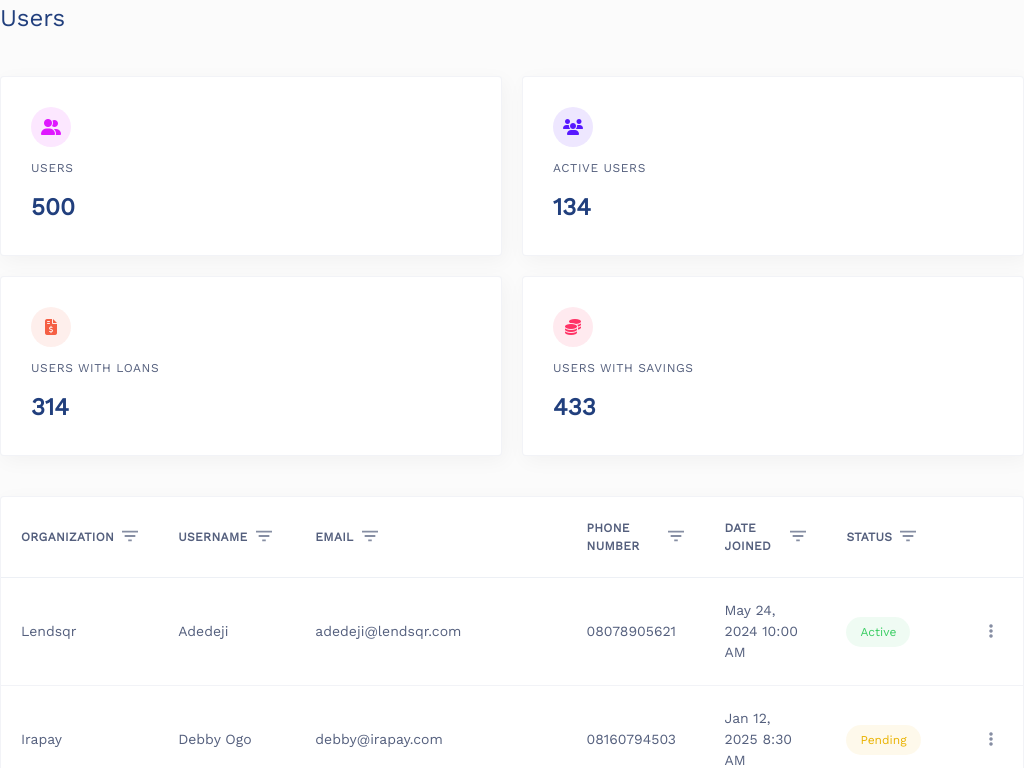
Scenario: Users Page › opens confirmation modal and does not commit change on cancel
Click the button named "view actions menu" in the row of "Debby Ogo". click: click(991, 740)
box: [979, 726, 1003, 753]
(page scrolled)
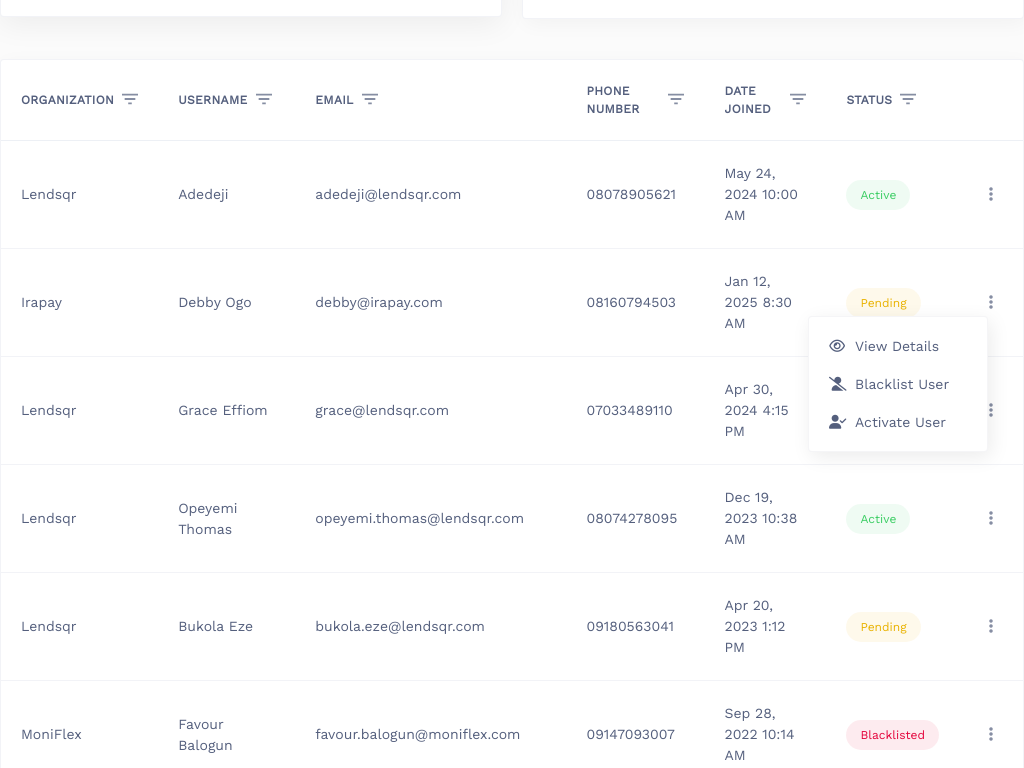
Click the button "Blacklist User". click: click(898, 384)
box: [809, 365, 987, 403]
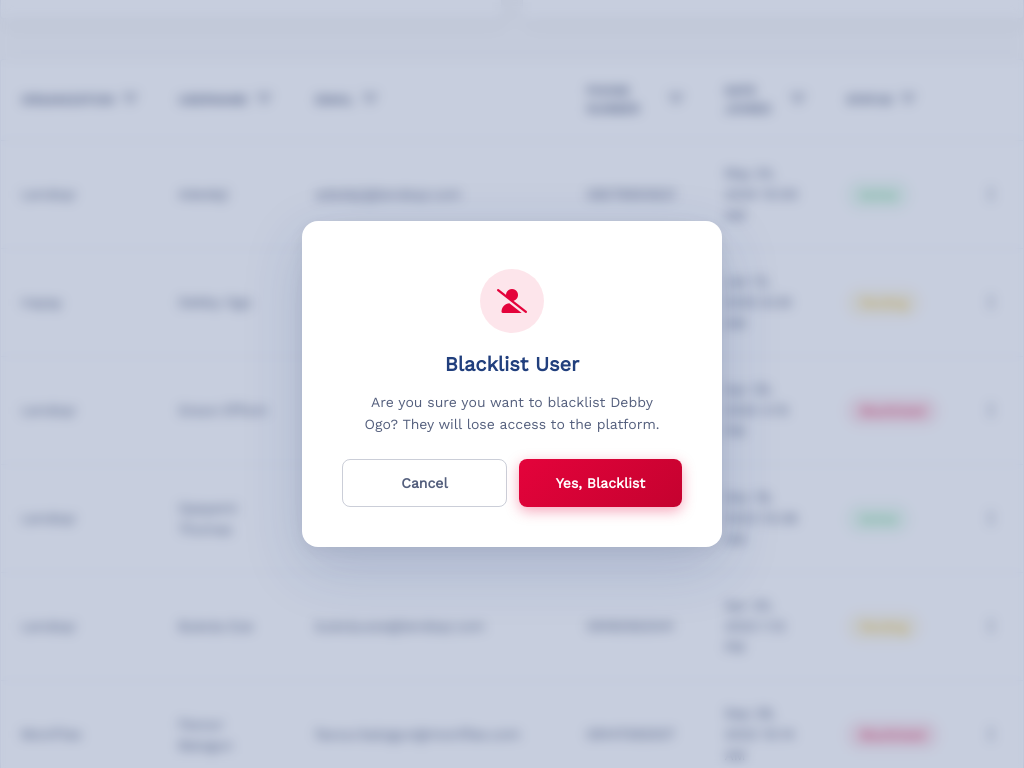
Expected: the heading "Blacklist User" is shown, [445, 351, 579, 377]
Note: Click cancel in modal
Click the button "Cancel". click: click(424, 483)
box: [342, 459, 507, 507]
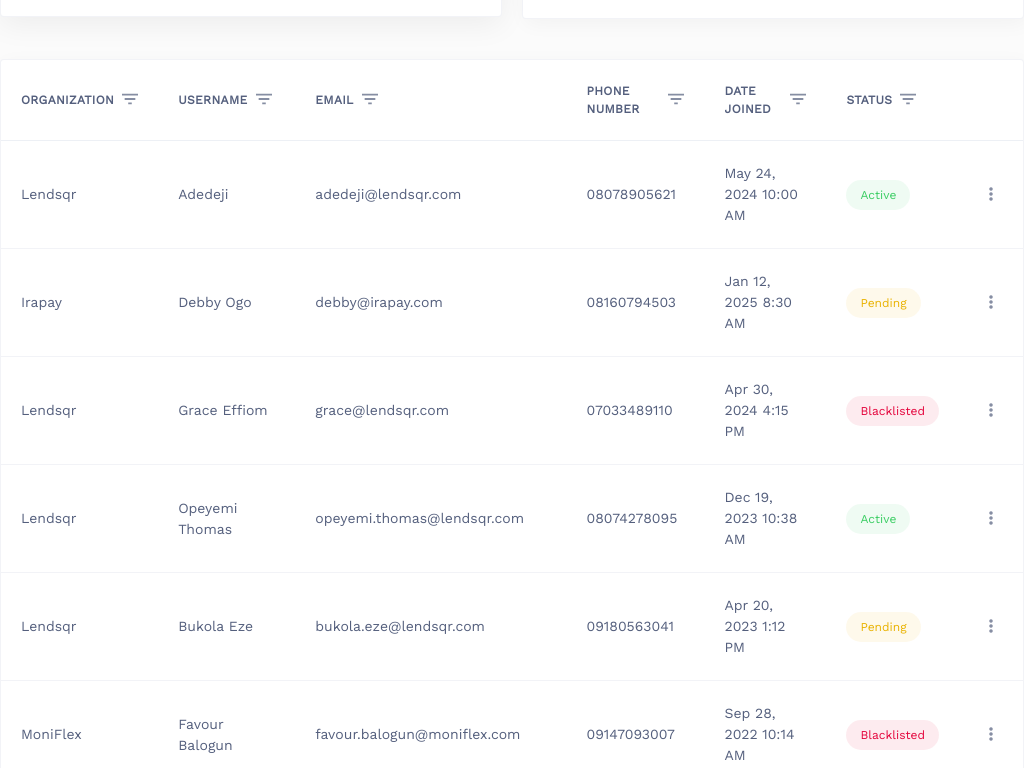
Expected: the heading "Blacklist User" is gone
